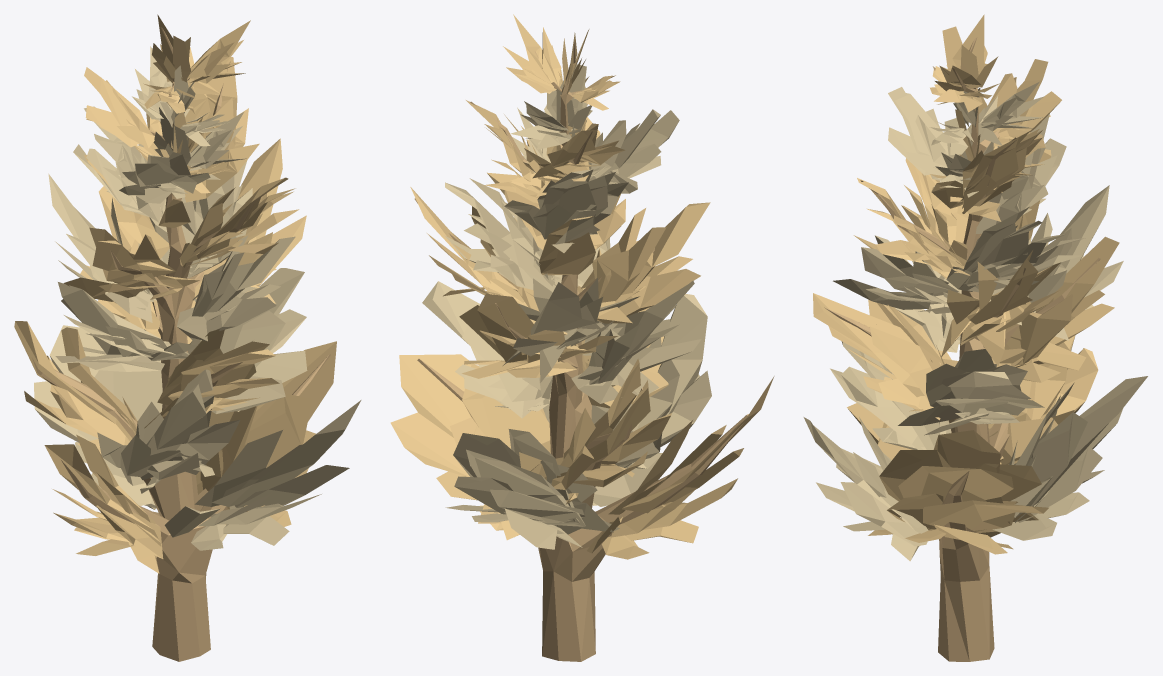
Rendered from DriedtulipA.fbx.
3 renders of one model, left to right at view 1: azimuth 30°, elevation 25°; view 2: azimuth 150°, elevation 25°; view 3: azimuth 270°, elevation 25°, orthographic.
Visible parts, largest first — view 1: leaves.001, trunk.001; view 2: leaves.001, trunk.001; view 3: leaves.001, trunk.001.
Boxes of the visible parts, box(x1,y1,x2,y2) form: leaves.001: box(14, 14, 361, 573); trunk.001: box(32, 27, 330, 661); leaves.001: box(390, 14, 774, 559); trunk.001: box(414, 41, 748, 661); leaves.001: box(803, 14, 1147, 561); trunk.001: box(824, 37, 1100, 661).
Size of the model in its own units: 432 by 817 by 405.
